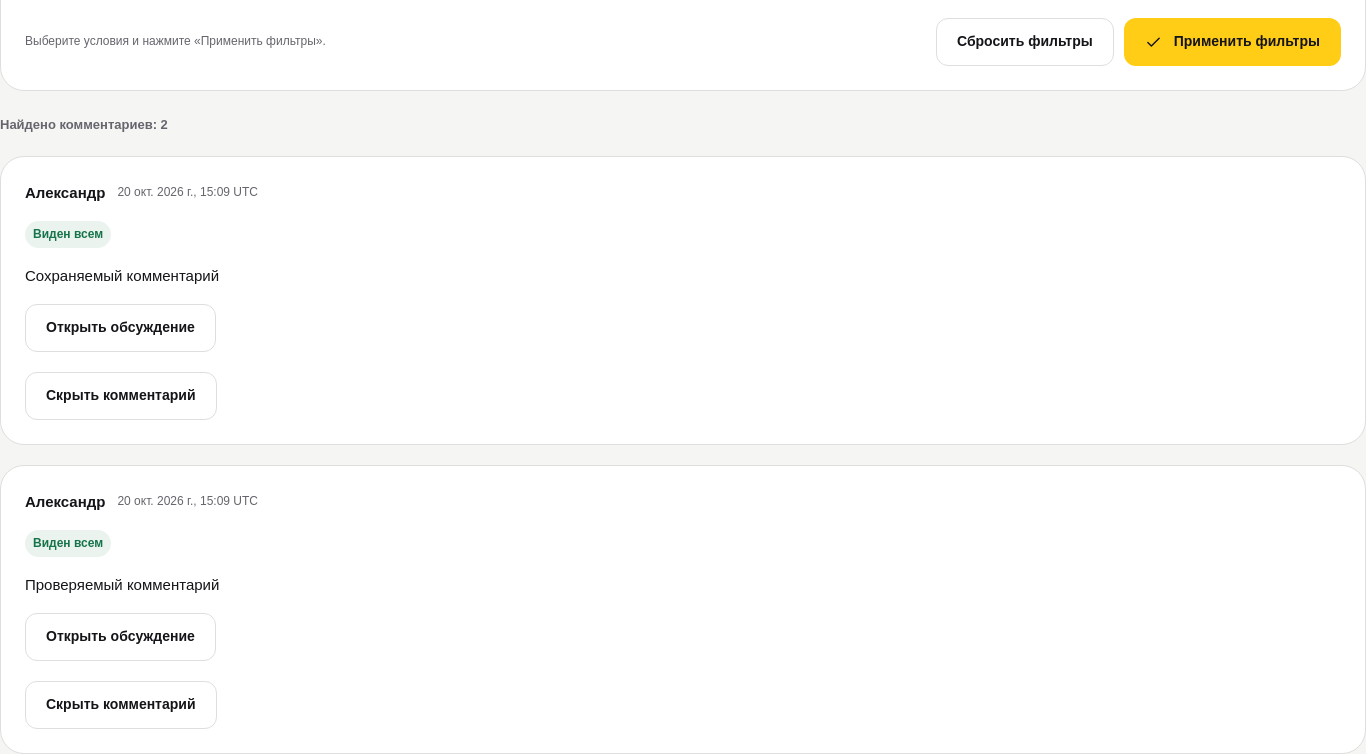
it: moderation UI › shows hidden status in admin only and retains other messages
(page scrolled)
Click the button "Скрыть комментарий" below "Сохраняемый комментарий" at [121, 396], box [25,372,216,420]
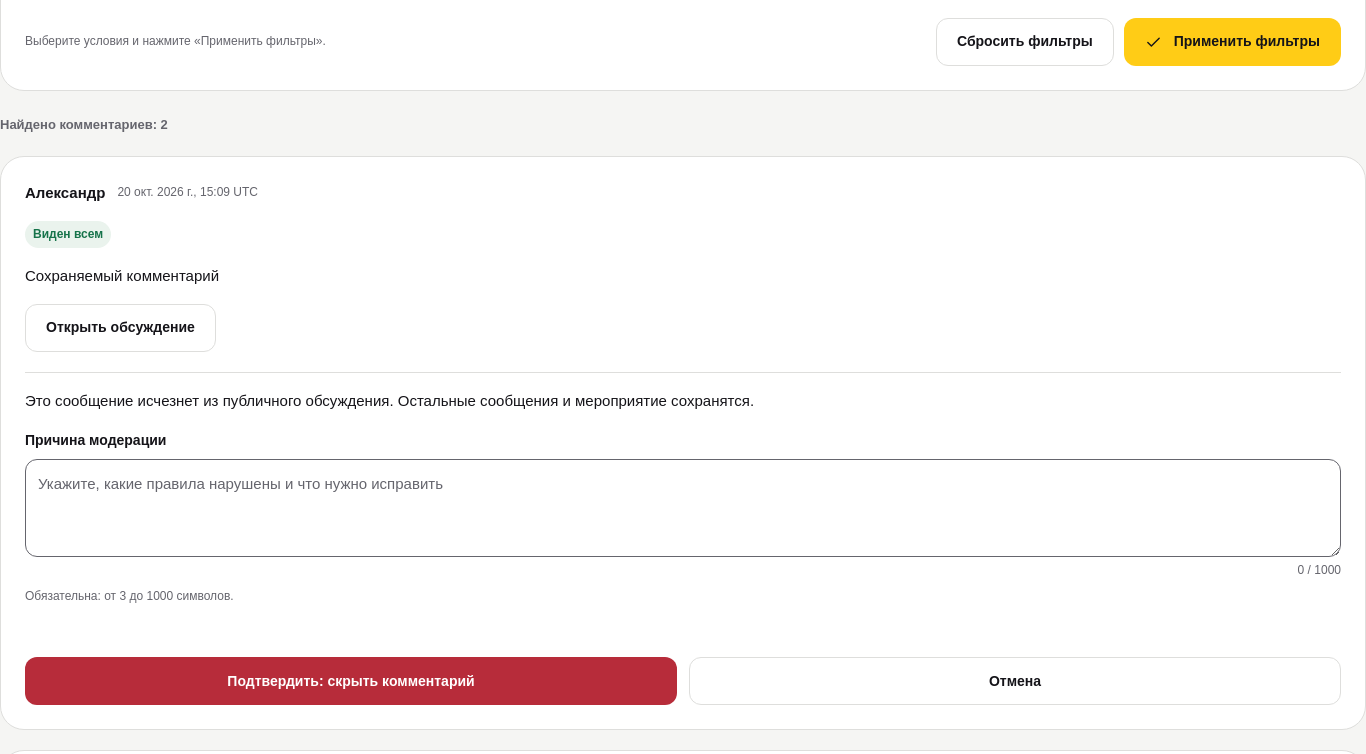
Type "Некорректная формулировка" into the text box labelled "Причина модерации" at [683, 508], box [25,460,1341,558]
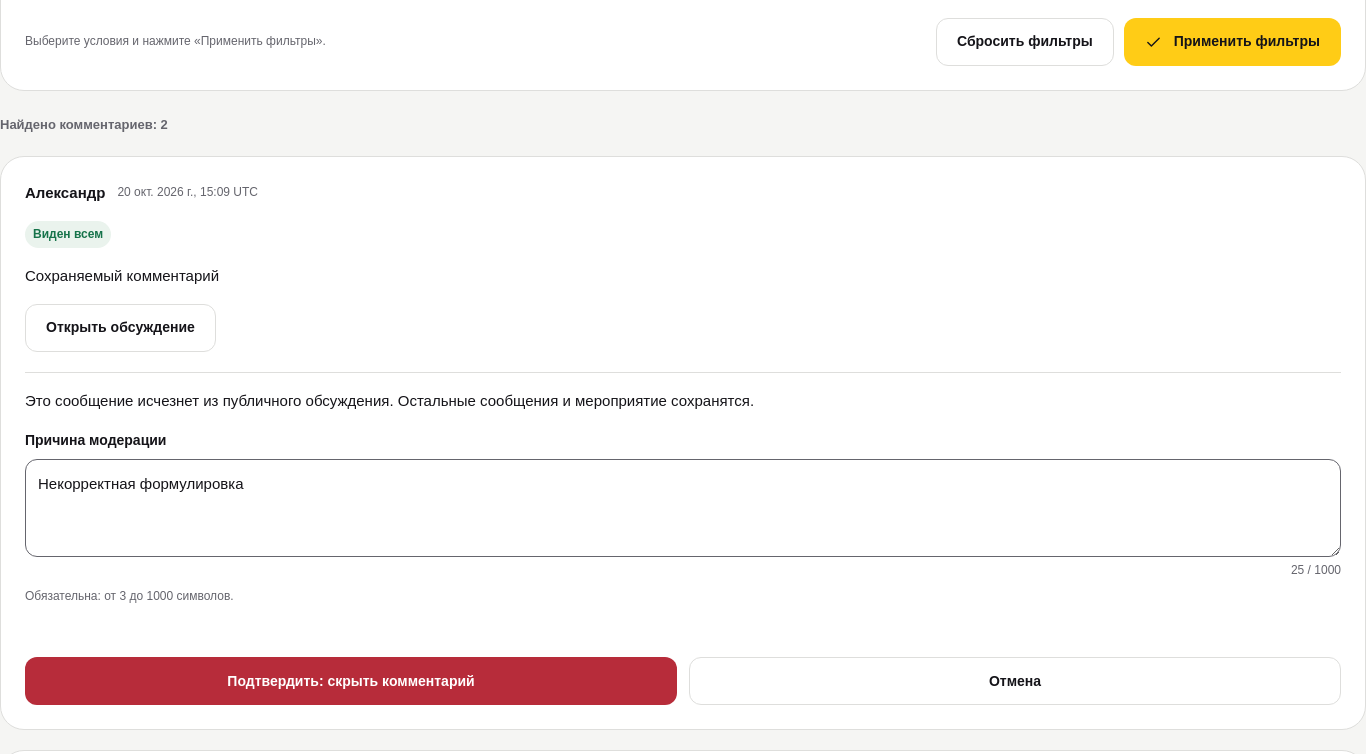
Click the button "Подтвердить: скрыть комментарий" at [351, 682], box [25,658,677,706]
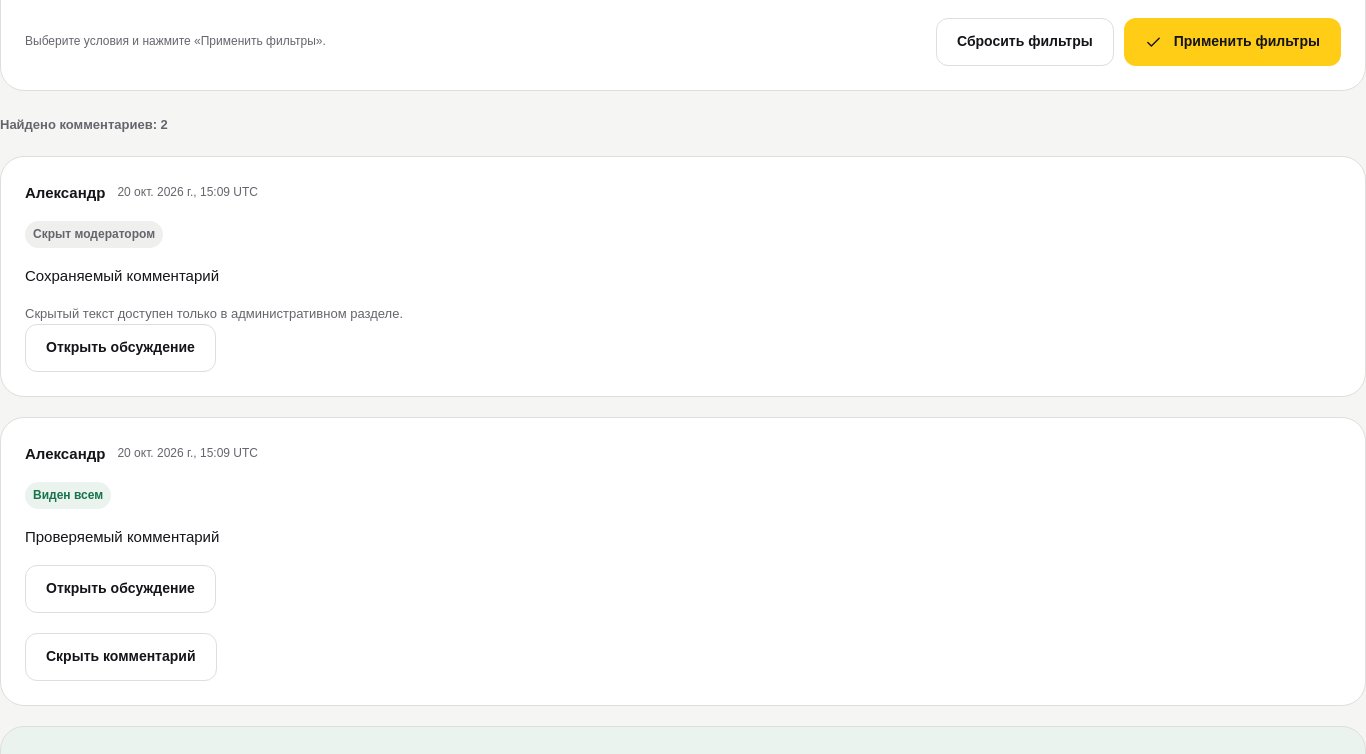
Expected: the text "Сохраняемый комментарий" is shown, [25,267,219,284]
Now the text "Скрыт модератором" is shown, box [25,221,163,248]
